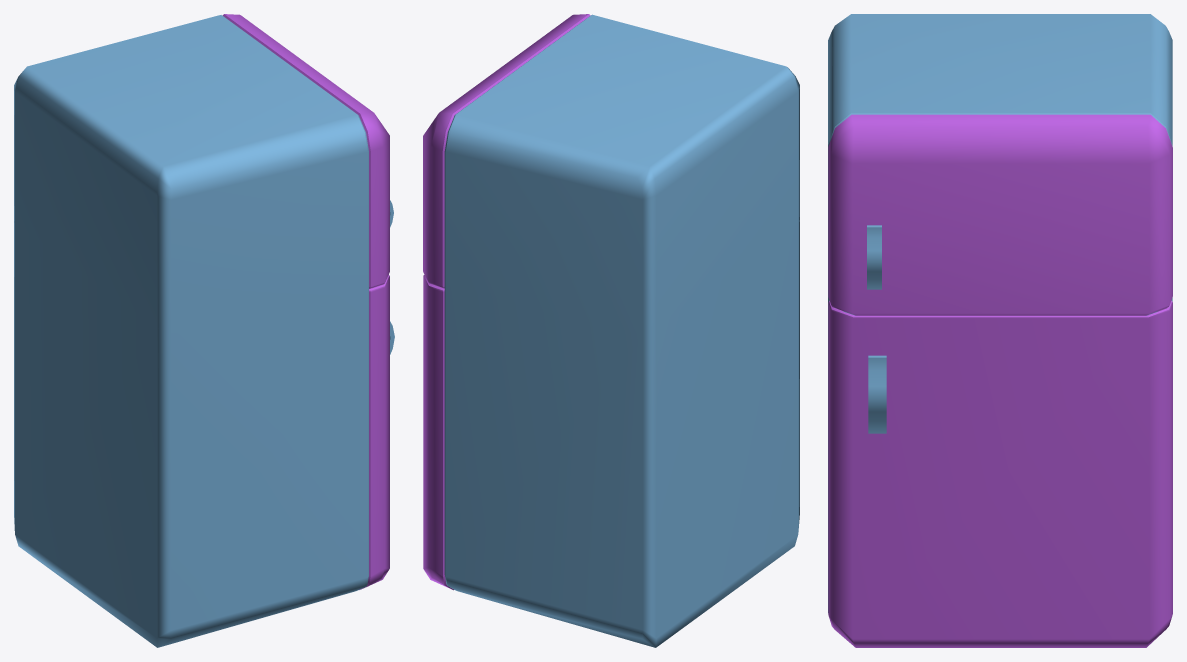
Rendered from Friday_Fridge.fbx.
3 renders of one model, left to right at view 1: azimuth 30°, elevation 25°; view 2: azimuth 150°, elevation 25°; view 3: azimuth 270°, elevation 25°, orthographic. The views are drawn at different scales.
Visible parts, largest first — view 1: Fridge, Fridge_Door; view 2: Fridge, Fridge_Door; view 3: Fridge_Door, Fridge.
Boxes of the visible parts, bbox=[...] form: Fridge: bbox=[14, 15, 394, 647]; Fridge_Door: bbox=[222, 14, 389, 589]; Fridge: bbox=[444, 14, 799, 647]; Fridge_Door: bbox=[423, 14, 590, 590]; Fridge_Door: bbox=[828, 114, 1172, 647]; Fridge: bbox=[828, 14, 1172, 612].
Size of the model in its own units: 31.56 by 58.65 by 34.52.
